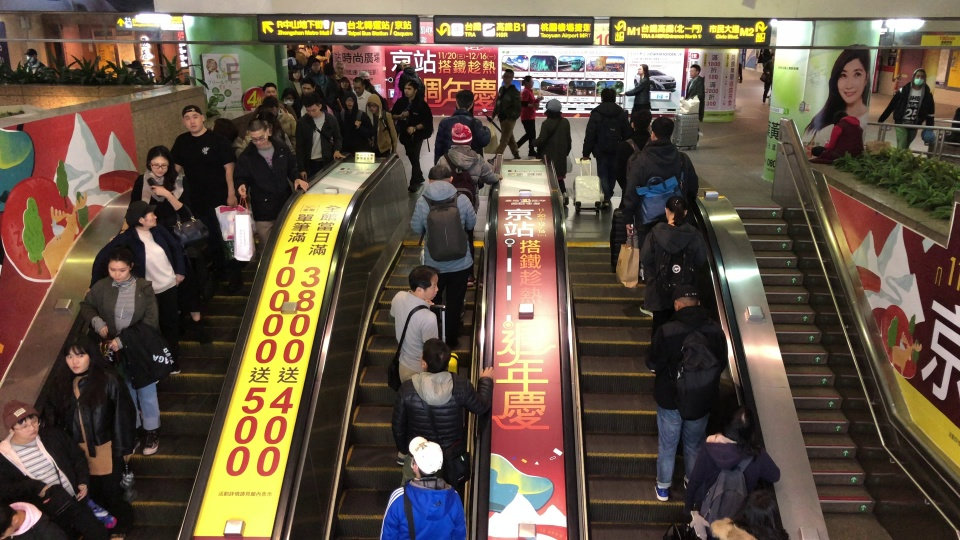person_head: (729, 488, 787, 537), (2, 400, 42, 442), (406, 436, 443, 479), (62, 334, 98, 376), (406, 265, 439, 301), (419, 338, 451, 373), (126, 201, 159, 231), (105, 247, 134, 281), (722, 406, 753, 437), (669, 284, 702, 313), (664, 196, 690, 225), (146, 146, 171, 176), (0, 501, 20, 538), (181, 105, 205, 133), (650, 117, 675, 142), (629, 106, 653, 130), (246, 120, 269, 145), (303, 91, 324, 116), (450, 123, 473, 145), (426, 165, 452, 184), (454, 89, 475, 112), (402, 79, 420, 101), (543, 99, 563, 118), (261, 97, 279, 116), (598, 88, 617, 106), (256, 112, 276, 129), (366, 94, 382, 113), (911, 68, 927, 86), (260, 82, 278, 97), (500, 68, 515, 85), (343, 93, 357, 111), (833, 111, 849, 126), (352, 76, 365, 94), (280, 88, 294, 104), (24, 48, 38, 63), (688, 64, 701, 78), (521, 75, 534, 88), (636, 65, 650, 77), (121, 59, 132, 71), (334, 62, 344, 75), (310, 59, 320, 71), (290, 69, 301, 79), (339, 77, 349, 88), (133, 60, 142, 70), (286, 49, 296, 58), (394, 63, 403, 72), (401, 59, 410, 68), (770, 52, 775, 60)
person_vbox: (36, 335, 142, 539), (83, 201, 192, 384), (111, 146, 212, 342), (0, 399, 132, 540), (82, 247, 164, 459), (650, 284, 728, 502), (391, 338, 495, 493), (170, 105, 238, 296), (622, 117, 699, 278), (410, 166, 478, 347), (683, 407, 783, 523), (433, 123, 504, 285), (386, 265, 441, 466), (234, 121, 308, 254), (379, 434, 468, 540), (638, 195, 710, 318), (581, 88, 635, 211), (388, 78, 434, 192), (877, 68, 936, 154), (294, 90, 346, 180), (432, 89, 492, 165), (702, 488, 788, 540), (536, 98, 572, 206), (485, 68, 522, 163), (614, 105, 655, 185), (806, 111, 865, 165), (236, 112, 296, 162), (0, 496, 65, 540), (619, 64, 653, 130), (256, 97, 297, 150), (513, 74, 538, 159), (366, 94, 399, 157), (342, 93, 374, 155), (683, 64, 706, 148), (260, 82, 297, 121), (397, 58, 426, 100), (759, 52, 777, 104), (390, 63, 406, 114), (351, 76, 373, 111), (337, 76, 358, 111), (23, 47, 47, 75), (280, 88, 300, 120), (309, 59, 326, 88), (290, 68, 303, 96), (285, 49, 299, 72), (133, 59, 148, 79), (120, 59, 134, 78), (334, 62, 347, 82)
